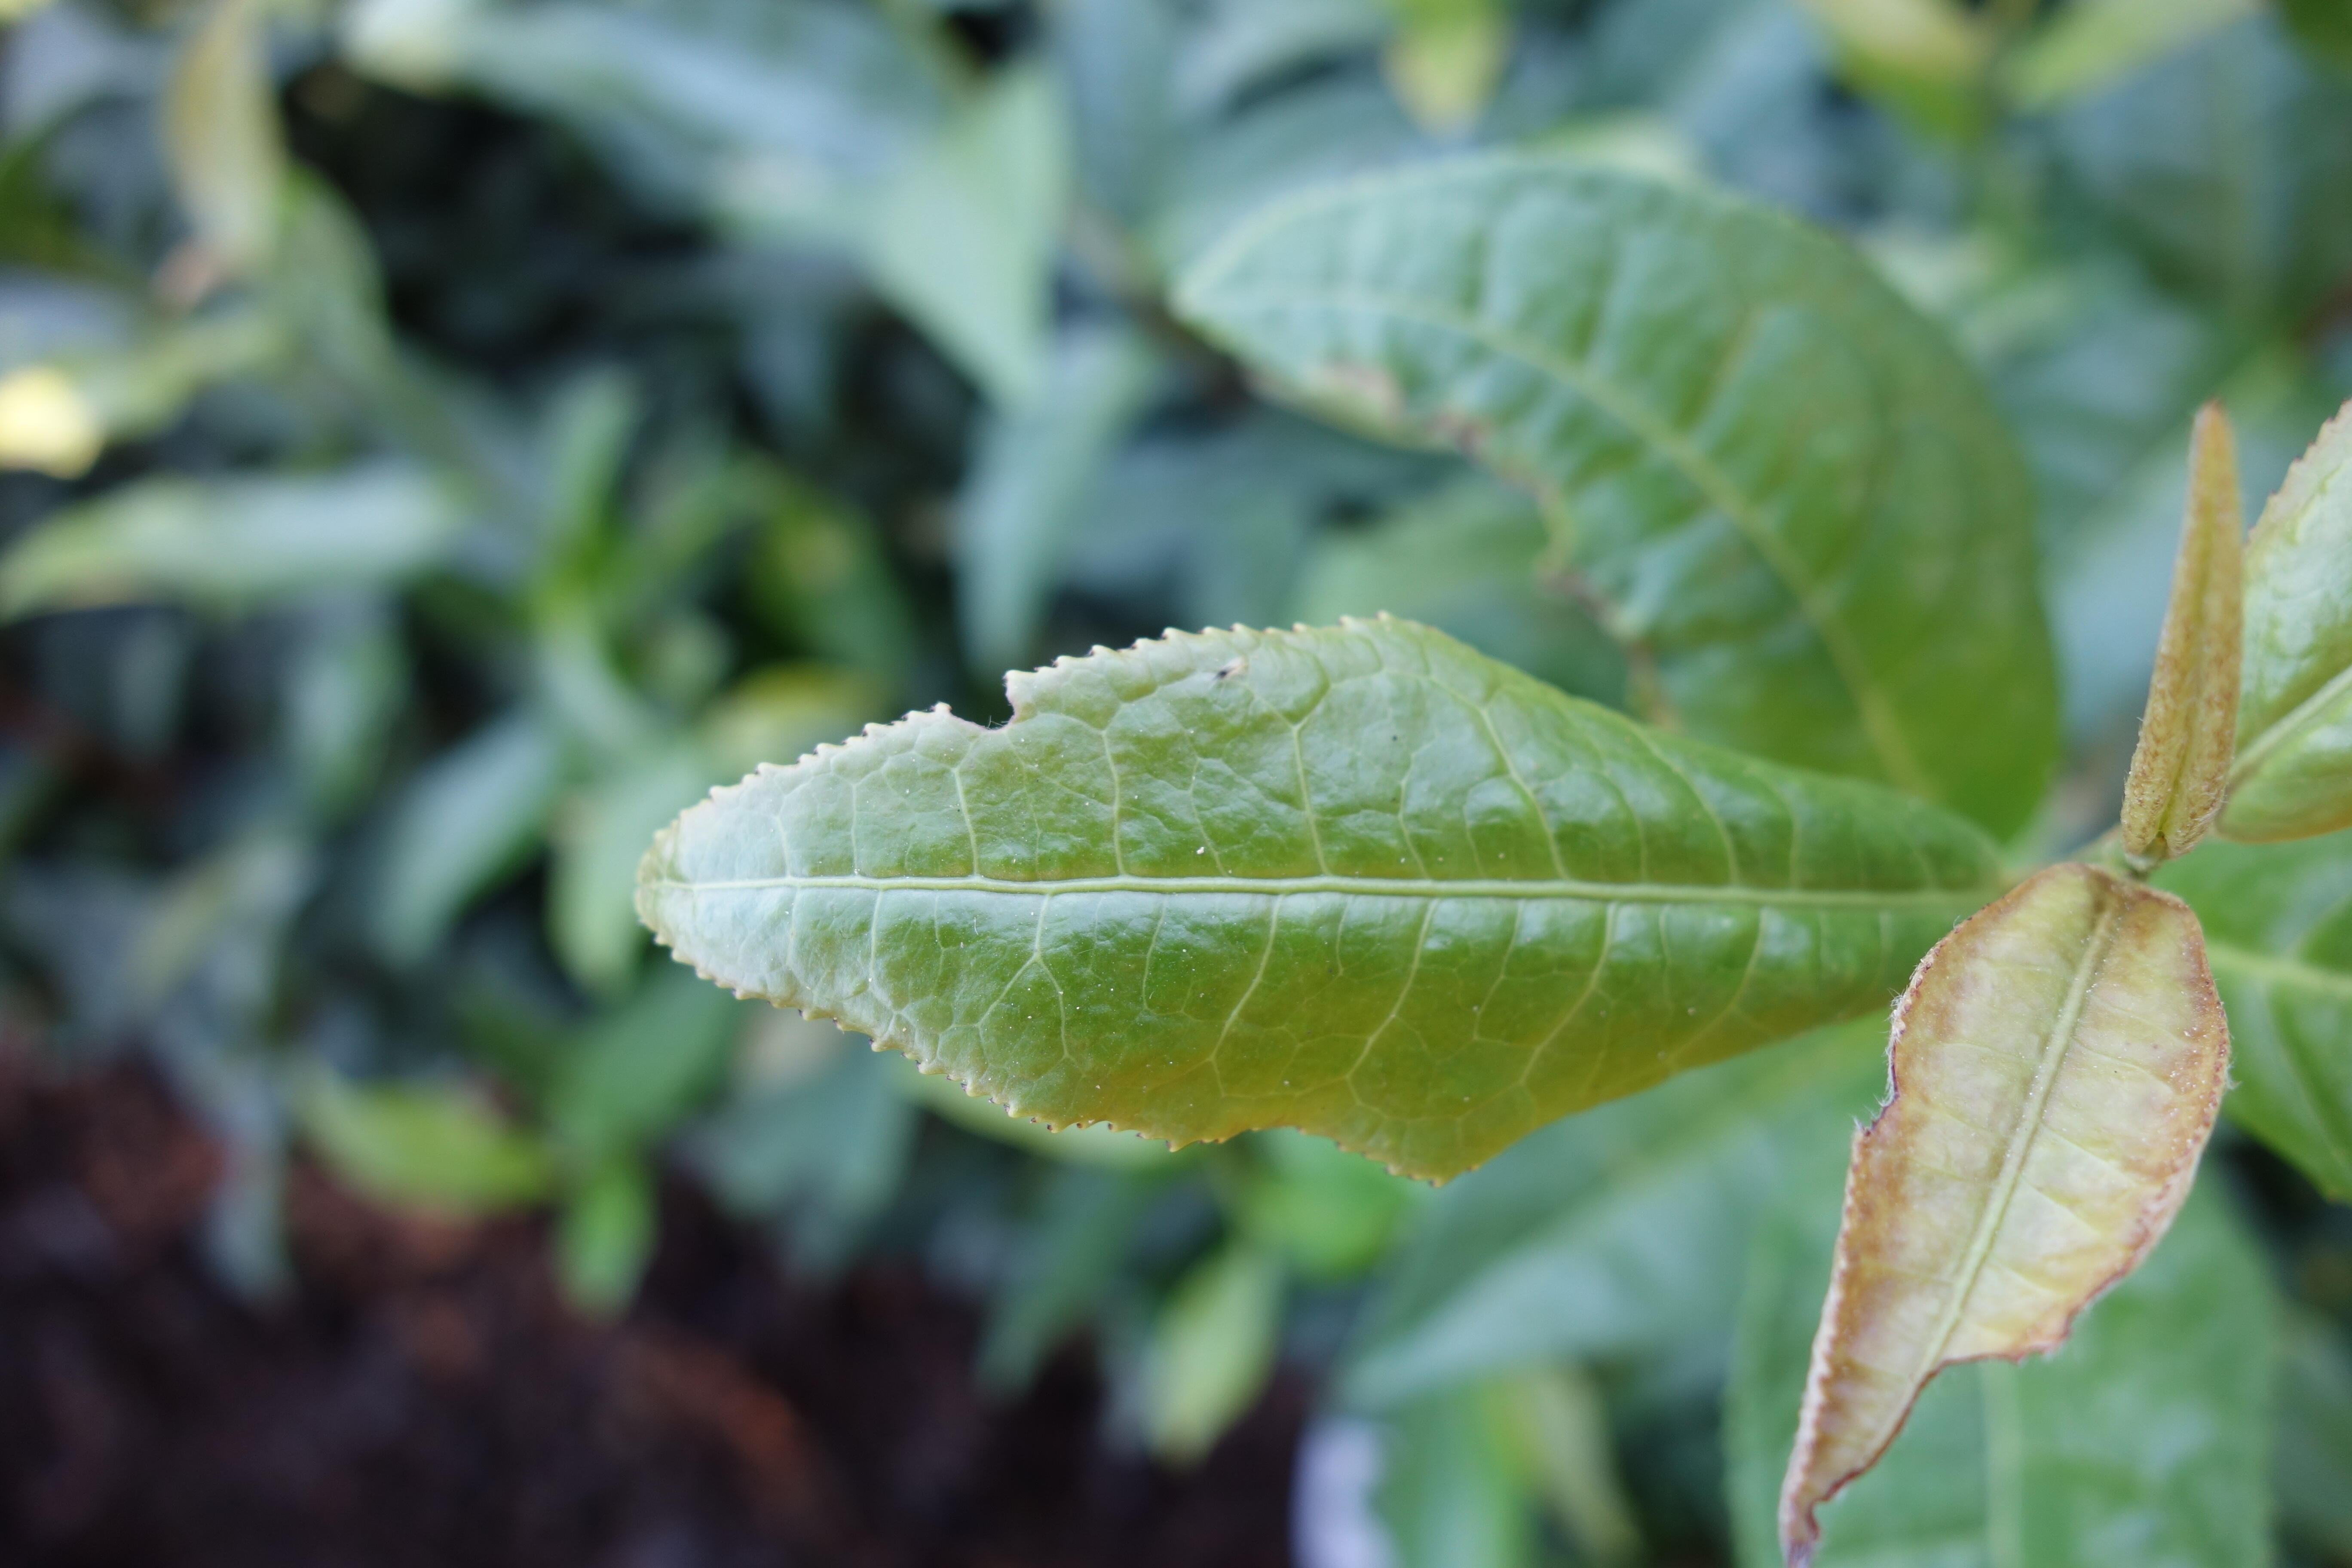chihuo_low: (626, 605, 1951, 1186)
tanju_low: (1771, 857, 2233, 1564)
